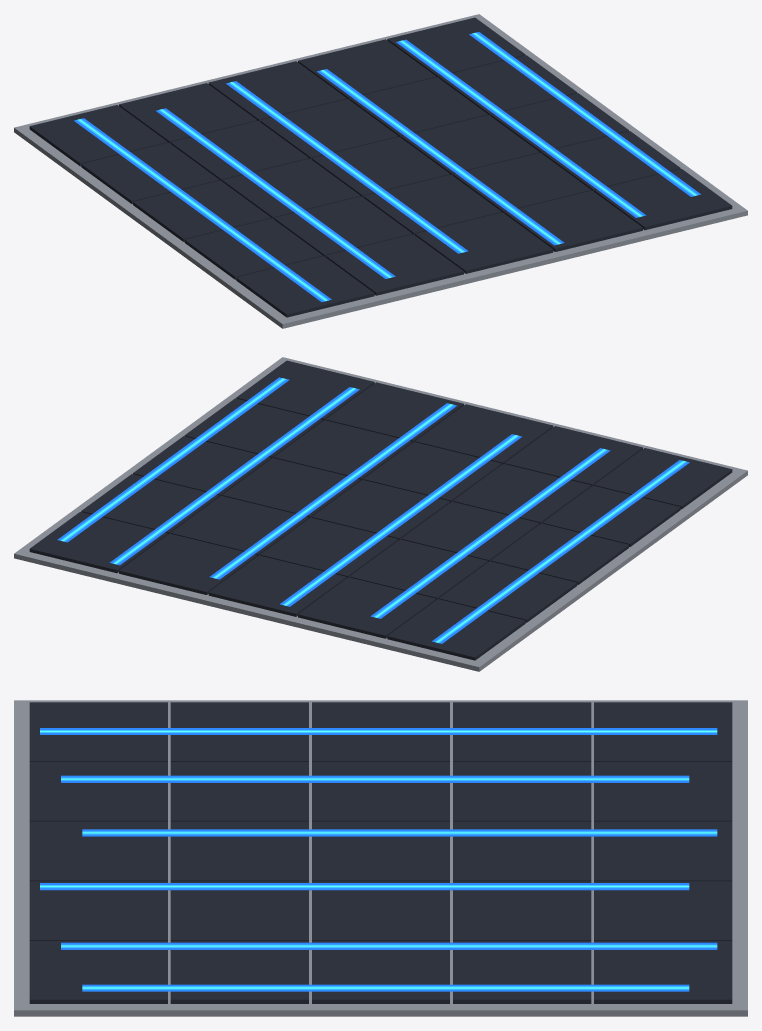
File: suelo_servidores.glb
3 renders of one model, top to bottom at view 1: azimuth 30°, elevation 25°; view 2: azimuth 150°, elevation 25°; view 3: azimuth 270°, elevation 25°, orthographic. The views are drawn at different scales.
Parts seen in each view (by area): view 1: Suelo_Baldosas, Suelo_LosaJuntas, Suelo_Reflejo_0_0, Suelo_Reflejo_4_0, Suelo_Reflejo_3_0, Suelo_Reflejo_2_0, Suelo_Reflejo_1_0, Suelo_Reflejo_5_0, Suelo_Reflejo_0_1, Suelo_Reflejo_4_1, Suelo_Reflejo_3_1, Suelo_Reflejo_2_1 (+7 smaller); view 2: Suelo_Baldosas, Suelo_LosaJuntas, Suelo_Reflejo_0_0, Suelo_Reflejo_4_0, Suelo_Reflejo_3_0, Suelo_Reflejo_2_0, Suelo_Reflejo_1_0, Suelo_Reflejo_5_0, Suelo_Reflejo_0_1, Suelo_Reflejo_4_1, Suelo_Reflejo_3_1, Suelo_Reflejo_2_1 (+7 smaller); view 3: Suelo_Baldosas, Suelo_LosaJuntas, Suelo_Reflejo_2_0, Suelo_Reflejo_1_0, Suelo_Reflejo_5_0, Suelo_Reflejo_4_0, Suelo_Reflejo_3_0, Suelo_Reflejo_0_0, Suelo_Reflejo_4_1, Suelo_Reflejo_2_1, Suelo_Reflejo_1_1, Suelo_Reflejo_5_1 (+8 smaller).
Boxes of the visible parts, x1,y1,x2,y2 form: Suelo_Baldosas: (29,17,732,317); Suelo_LosaJuntas: (14,14,747,328); Suelo_Reflejo_0_0: (74,118,331,302); Suelo_Reflejo_4_0: (396,39,646,217); Suelo_Reflejo_3_0: (317,69,564,245); Suelo_Reflejo_2_0: (226,81,468,253); Suelo_Reflejo_1_0: (156,108,395,278); Suelo_Reflejo_5_0: (469,32,700,196); Suelo_Reflejo_0_1: (77,119,328,301); Suelo_Reflejo_4_1: (399,40,643,216); Suelo_Reflejo_3_1: (320,69,561,244); Suelo_Reflejo_2_1: (229,81,465,252); Suelo_Baldosas: (29,360,732,660); Suelo_LosaJuntas: (14,357,747,671); Suelo_Reflejo_0_0: (432,460,689,643); Suelo_Reflejo_4_0: (109,387,359,565); Suelo_Reflejo_3_0: (209,403,456,579); Suelo_Reflejo_2_0: (280,434,521,606); Suelo_Reflejo_1_0: (370,448,610,618); Suelo_Reflejo_5_0: (57,377,289,542); Suelo_Reflejo_0_1: (435,460,686,642); Suelo_Reflejo_4_1: (112,387,356,564); Suelo_Reflejo_3_1: (212,404,453,578); Suelo_Reflejo_2_1: (282,435,518,605); Suelo_Baldosas: (29,702,732,1003); Suelo_LosaJuntas: (14,700,747,1016); Suelo_Reflejo_2_0: (82,829,717,836); Suelo_Reflejo_1_0: (61,775,689,782); Suelo_Reflejo_5_0: (82,984,689,991); Suelo_Reflejo_4_0: (61,942,717,949); Suelo_Reflejo_3_0: (40,883,689,890); Suelo_Reflejo_0_0: (40,728,717,734); Suelo_Reflejo_4_1: (61,944,717,947); Suelo_Reflejo_2_1: (82,831,717,834); Suelo_Reflejo_1_1: (61,777,689,780); Suelo_Reflejo_5_1: (82,986,689,989).
Size of the model in its own units: 312 by 5.16 by 312.
